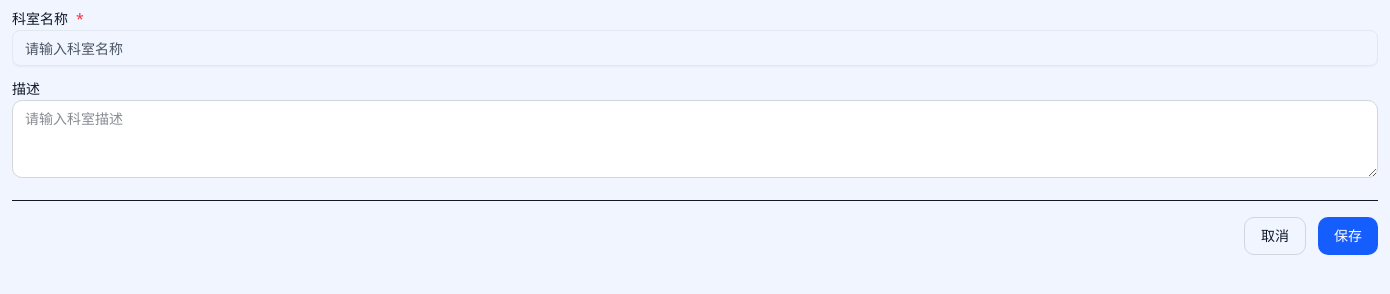
DepartmentForm › shows validation error when name is empty on submit
Click the button "保存". click: (1348, 236)
box: [1318,217,1378,255]
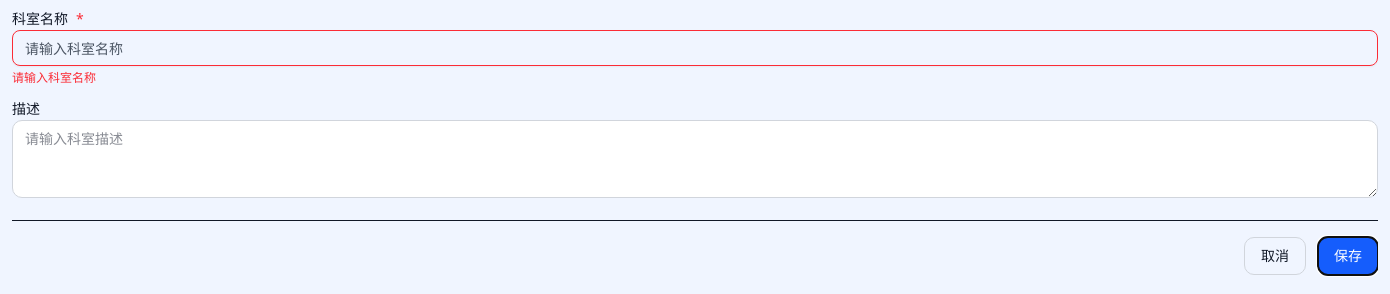
Expected: the text "请输入科室名称" is shown, [12,69,96,86]
